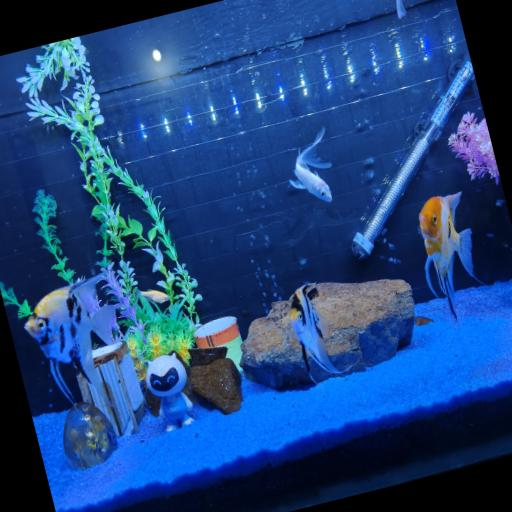Fish: (25, 274, 117, 404), (419, 193, 475, 318), (290, 283, 344, 383), (290, 127, 332, 202), (139, 290, 169, 303), (397, 0, 406, 18)
